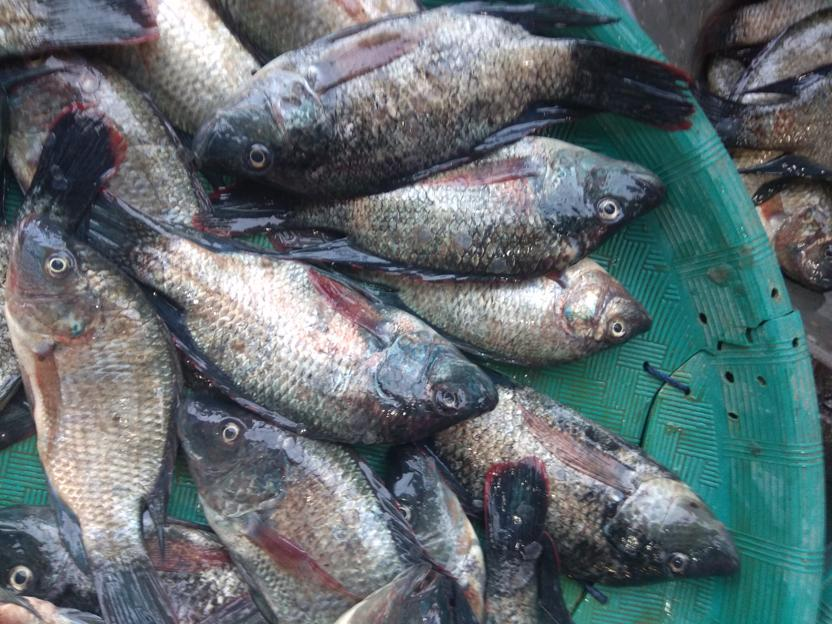Fish head: (191, 62, 336, 193), (173, 398, 299, 519), (373, 326, 498, 446), (2, 212, 118, 340), (615, 475, 738, 585), (543, 143, 669, 246), (389, 447, 483, 565), (1, 511, 105, 616), (561, 260, 653, 363), (339, 560, 451, 624), (773, 206, 832, 293)
Fish tail: (567, 35, 697, 134), (24, 105, 120, 225), (477, 459, 550, 586), (85, 190, 177, 273), (91, 549, 178, 624), (35, 1, 160, 51), (191, 197, 310, 244), (699, 91, 761, 152)
